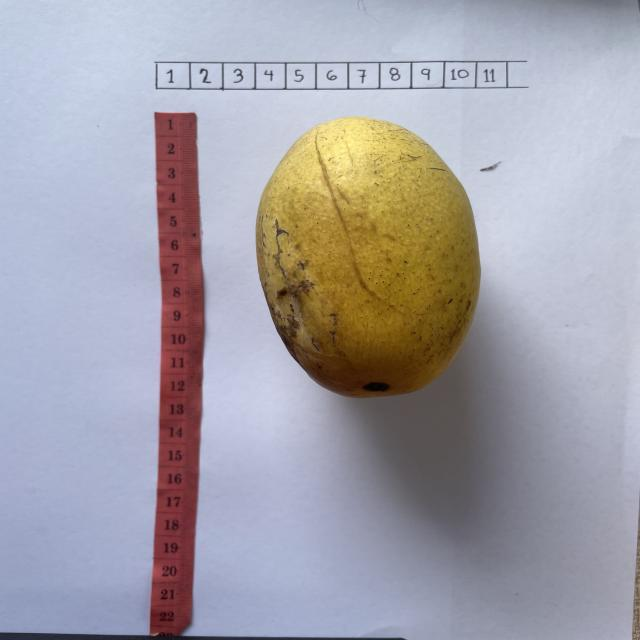Ripe: (254, 117, 482, 401)
